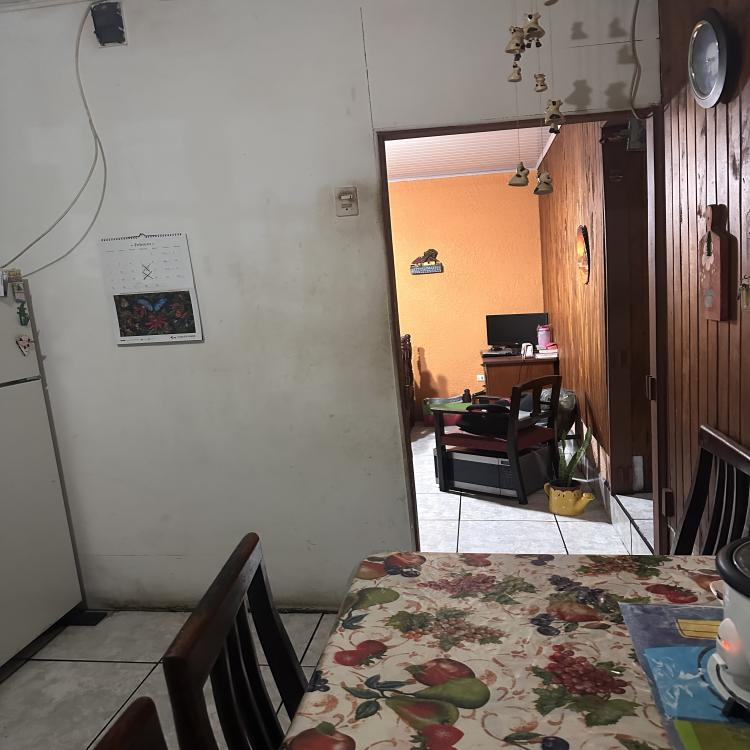OpenDoor: (345, 113, 692, 562)
